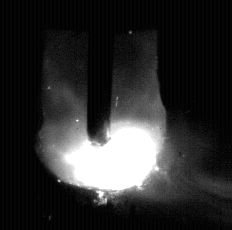arame: (88, 0, 112, 144)
poca: (40, 0, 161, 230)
